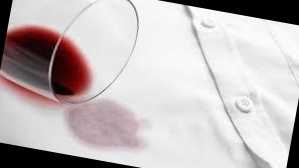wine: (58, 89, 154, 154)
